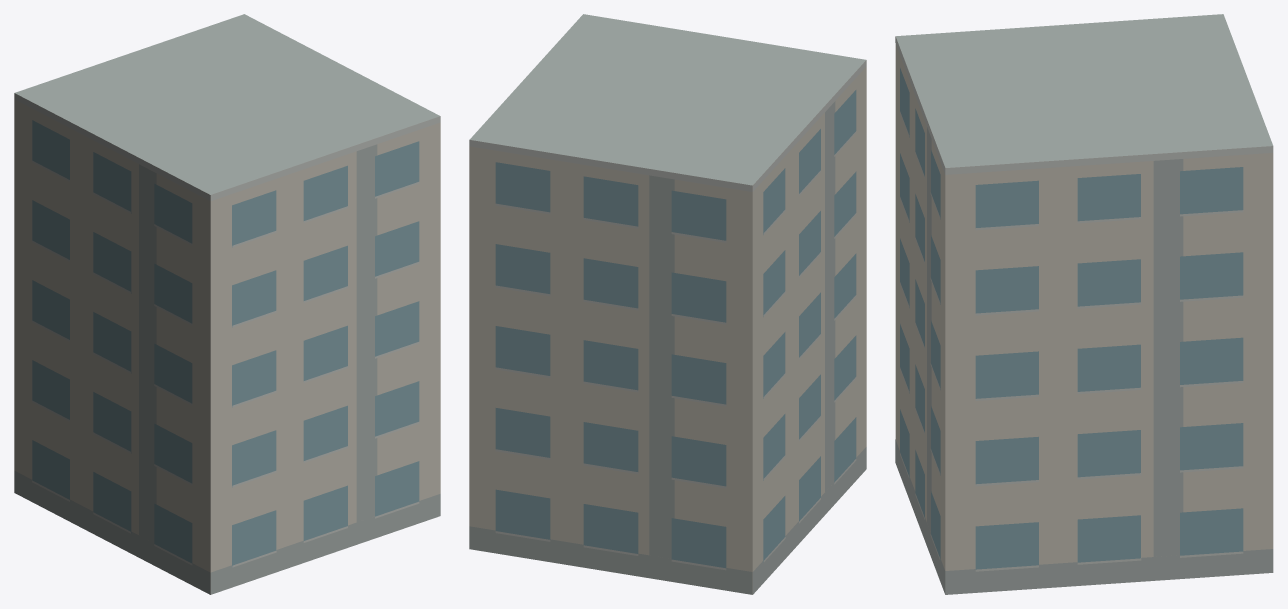
The model's file is residential-989ec767-7a2c-47c5-81cf-767e248f01ee.glb.
3 views of the same model, side by side, from view 1: azimuth 30°, elevation 25°; view 2: azimuth 150°, elevation 25°; view 3: azimuth 270°, elevation 25° (orthographic). The views are drawn at different scales.
Visible parts, largest first — view 1: residential-989ec767-7a2c-47c5-81cf-767e248f01ee.tmp; view 2: residential-989ec767-7a2c-47c5-81cf-767e248f01ee.tmp; view 3: residential-989ec767-7a2c-47c5-81cf-767e248f01ee.tmp.
Part boxes in pixels (x1,y1,x2,y2): residential-989ec767-7a2c-47c5-81cf-767e248f01ee.tmp: [14, 14, 440, 594]; residential-989ec767-7a2c-47c5-81cf-767e248f01ee.tmp: [469, 14, 866, 594]; residential-989ec767-7a2c-47c5-81cf-767e248f01ee.tmp: [895, 14, 1273, 594].
Size of the model in its own units: 11.82 by 15.25 by 12.25.
